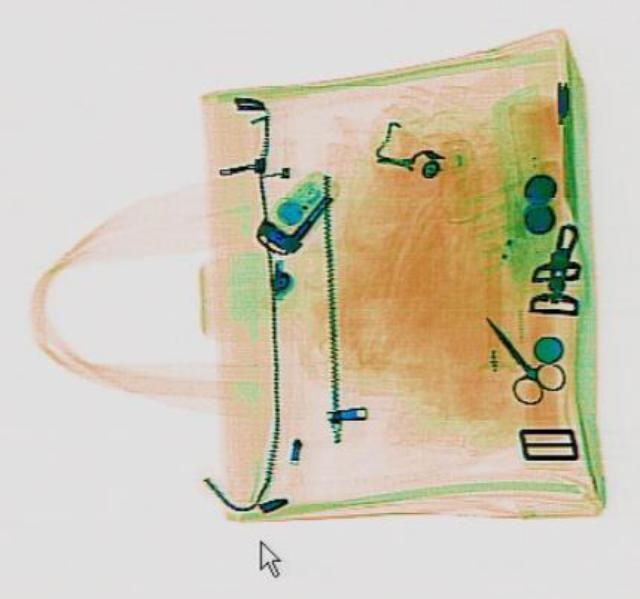Scissors: (460, 302, 570, 406)
